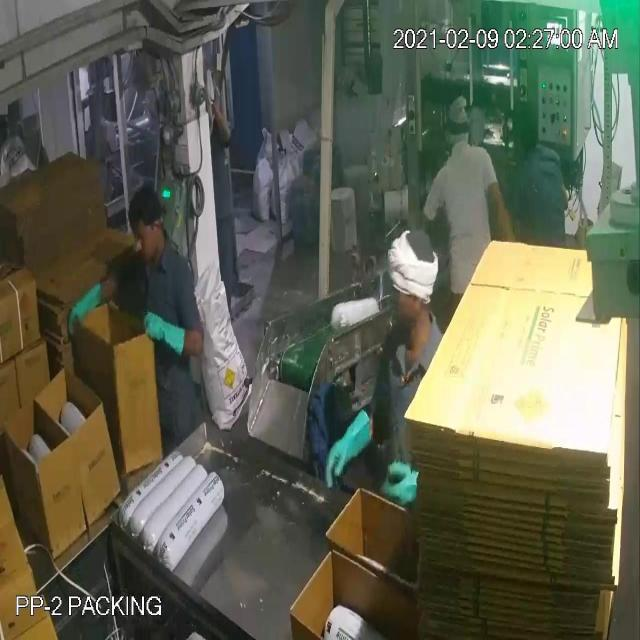Gloves: (40, 54, 404, 486)
